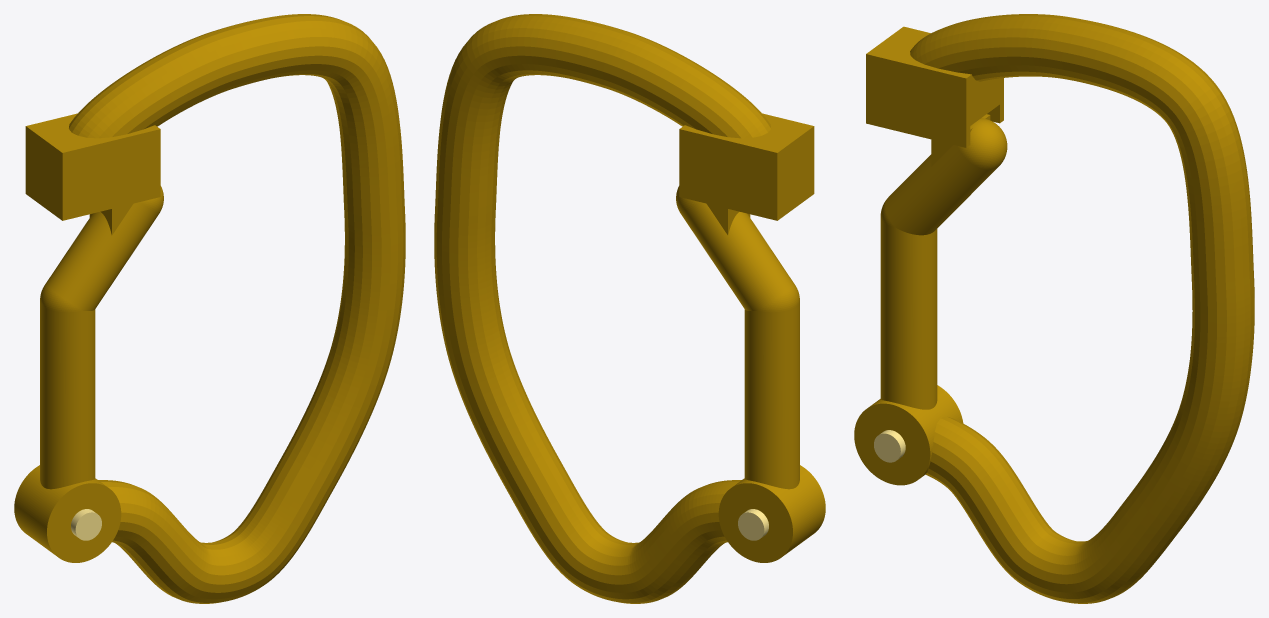
File: Sports_Carabiner__0018.glb
3 renders of one model, left to right at view 1: azimuth 30°, elevation 25°; view 2: azimuth 150°, elevation 25°; view 3: azimuth 330°, elevation 25°, orthographic. The views are drawn at different scales.
Visible parts, largest first — view 1: body::body_loop, gate::gate_bar, body::nose_slot, gate::hinge_pin; view 2: body::body_loop, gate::gate_bar, body::nose_slot, gate::hinge_pin; view 3: body::body_loop, gate::gate_bar, body::nose_slot, gate::hinge_pin.
Part boxes in pixels (x1=…): body::body_loop: x1=69, y1=14, x2=405, y2=603; gate::gate_bar: x1=14, y1=186, x2=163, y2=562; body::nose_slot: x1=25, y1=113, x2=160, y2=220; gate::hinge_pin: x1=71, y1=509, x2=101, y2=540; body::body_loop: x1=434, y1=14, x2=770, y2=603; gate::gate_bar: x1=676, y1=186, x2=825, y2=562; body::nose_slot: x1=679, y1=113, x2=814, y2=220; gate::hinge_pin: x1=738, y1=509, x2=768, y2=540; body::body_loop: x1=910, y1=14, x2=1254, y2=603; gate::gate_bar: x1=854, y1=118, x2=1007, y2=485; body::nose_slot: x1=866, y1=26, x2=1003, y2=147; gate::hinge_pin: x1=874, y1=430, x2=905, y2=462.
Bounding box in the file's own units: 0.0629 × 0.0919 × 0.0124.
Materials: 2 (1 with a texture image).
